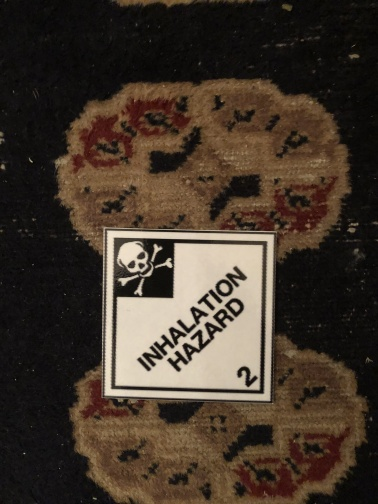InhalationHazard: (101, 227, 279, 404)
